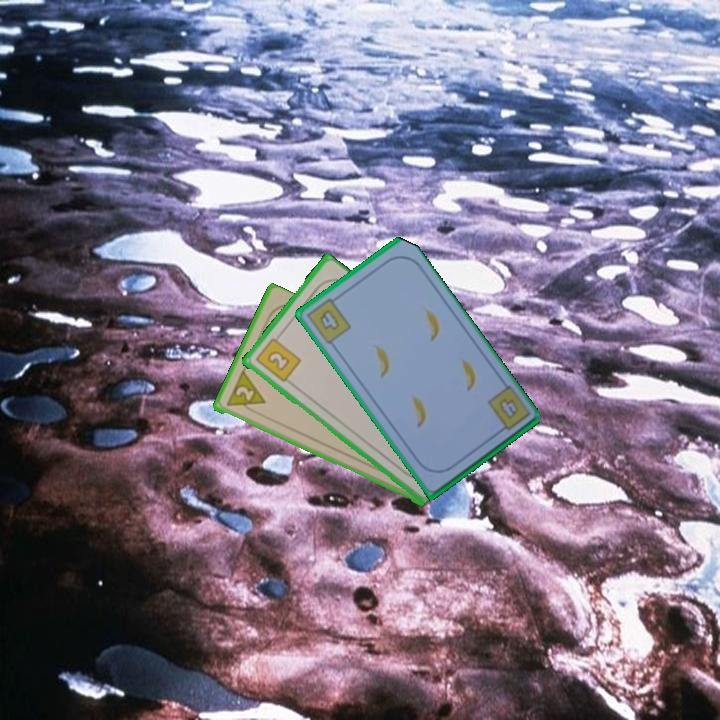2b: (251, 330, 303, 385)
2p: (222, 369, 268, 417)
4b: (303, 292, 354, 347), (494, 394, 521, 422)
